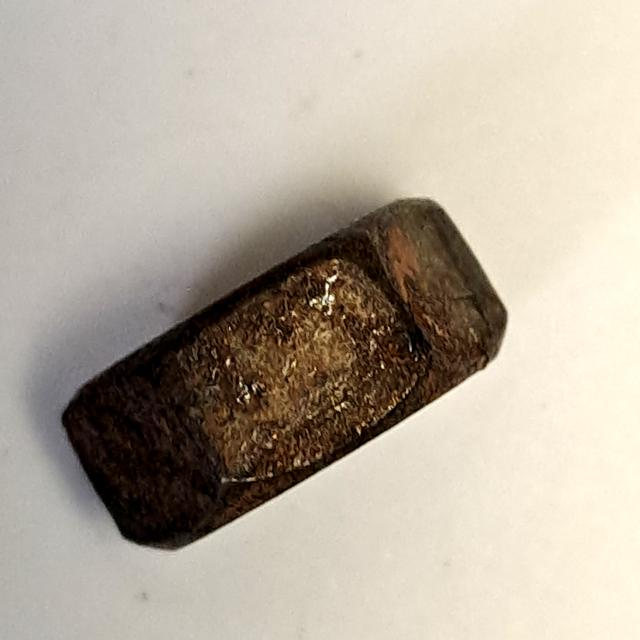Side_Rust: (44, 181, 527, 561)
